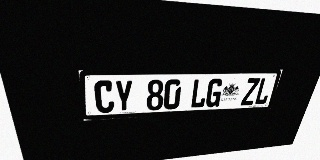0: (163, 79, 182, 110)
8: (146, 79, 165, 111)
C: (94, 80, 114, 113)
G: (205, 78, 224, 107)
L: (189, 79, 209, 108), (253, 78, 274, 105)
Y: (114, 80, 133, 112)
Z: (240, 78, 260, 105)
